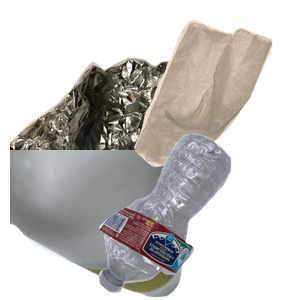glass: (10, 150, 190, 300)
metal: (10, 47, 216, 227)
plastic: (96, 131, 300, 300)
trash: (132, 17, 300, 177)
